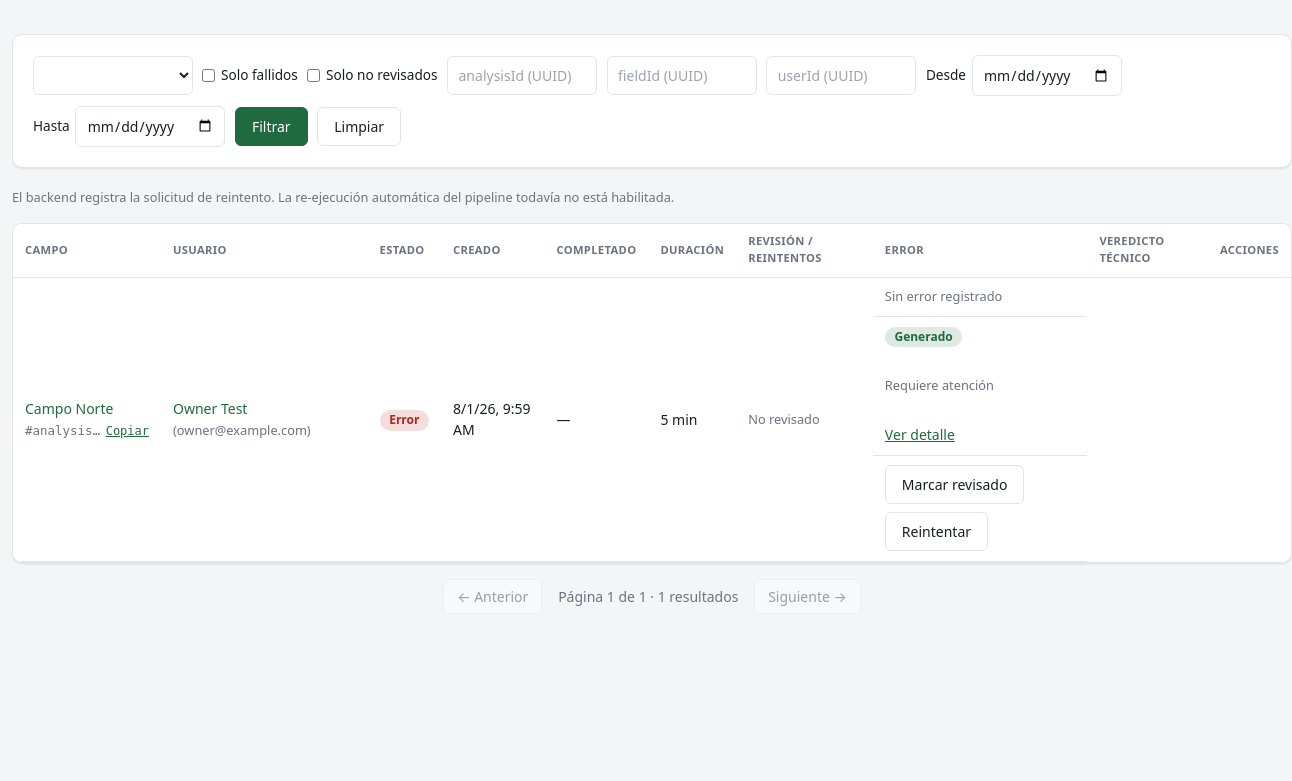
Test: AnalysisComponent › Veredicto técnico (PR 13A) › renderiza recommendations
Click the button "Ver detalle". click: x=920, y=435
box: [885,424,955,445]
(page scrolled)
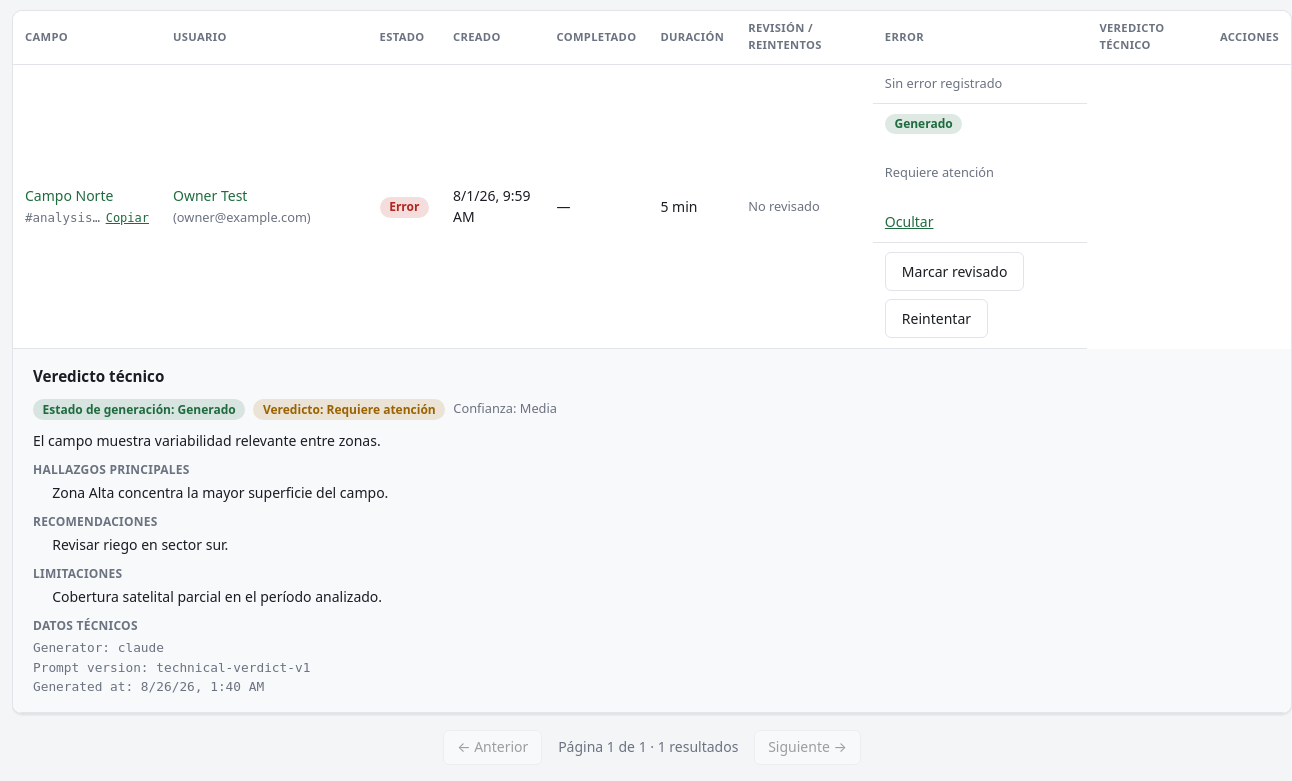
expect the element that starts with "Veredicto técnico" shows "Recomendaciones": met, box [33,513,158,530]
expect the element that starts with "Veredicto técnico" shows "Revisar riego en sector sur.": met, box [52,535,228,554]
